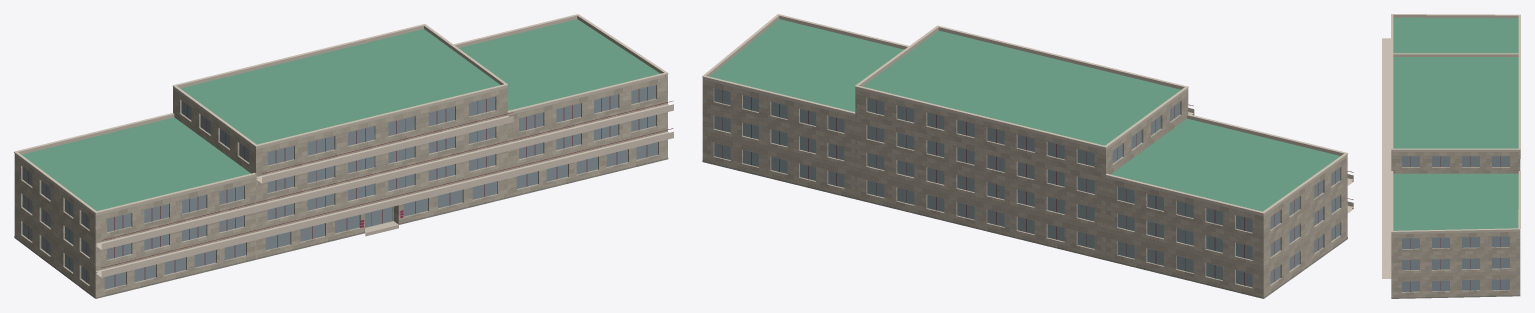
3 renders of one model, left to right at view 1: azimuth 30°, elevation 25°; view 2: azimuth 150°, elevation 25°; view 3: azimuth 270°, elevation 25°, orthographic. The views are drawn at different scales.
Parts seen in each view (by area): view 1: osm136188643__roof, osm136188643__wall, osm136188643__glass, osm136188643__trim, osm136188643__parapet, osm136188643__frame, osm136188643__base; view 2: osm136188643__wall, osm136188643__roof, osm136188643__glass, osm136188643__parapet, osm136188643__trim, osm136188643__base, osm136188643__frame; view 3: osm136188643__roof, osm136188643__wall, osm136188643__trim, osm136188643__glass, osm136188643__parapet, osm136188643__base, osm136188643__frame.
Part boxes in pixels (x1,y1,x2,y2): osm136188643__roof: (22, 19, 659, 210); osm136188643__wall: (14, 76, 667, 298); osm136188643__glass: (22, 85, 657, 289); osm136188643__trim: (14, 14, 673, 277); osm136188643__parapet: (14, 15, 667, 215); osm136188643__frame: (28, 87, 673, 286); osm136188643__base: (14, 158, 668, 298); osm136188643__wall: (702, 80, 1347, 298); osm136188643__roof: (709, 19, 1340, 211); osm136188643__glass: (714, 88, 1339, 287); osm136188643__parapet: (702, 15, 1347, 216); osm136188643__trim: (702, 14, 1353, 213); osm136188643__base: (702, 160, 1347, 298); osm136188643__frame: (722, 90, 1353, 285); osm136188643__roof: (1393, 17, 1518, 230); osm136188643__wall: (1391, 149, 1520, 297); osm136188643__trim: (1382, 14, 1520, 278); osm136188643__glass: (1402, 156, 1509, 291); osm136188643__parapet: (1391, 15, 1520, 234); osm136188643__base: (1391, 295, 1520, 298); osm136188643__frame: (1410, 156, 1500, 291).
Bounding box in the file's own units: 78.38 × 15.25 × 21.1.
Materials: 10 (2 with a texture image).
